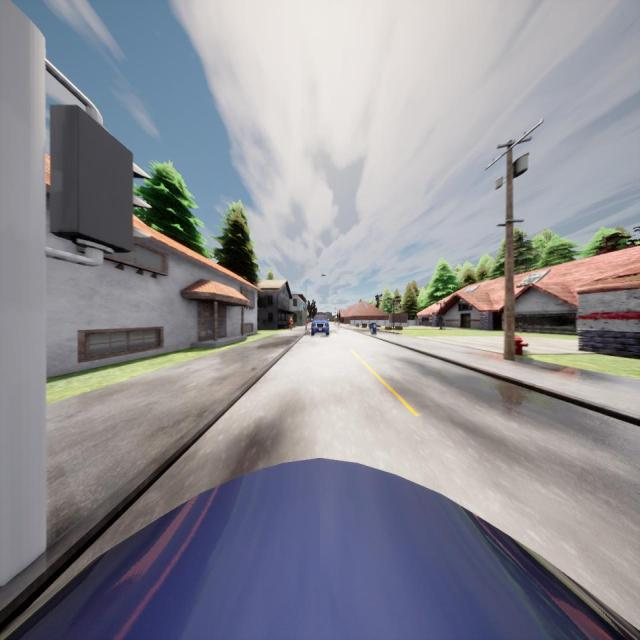Pedestrian: (289, 316, 293, 330)
Vehicle: (0, 459, 640, 640), (311, 314, 329, 336)
